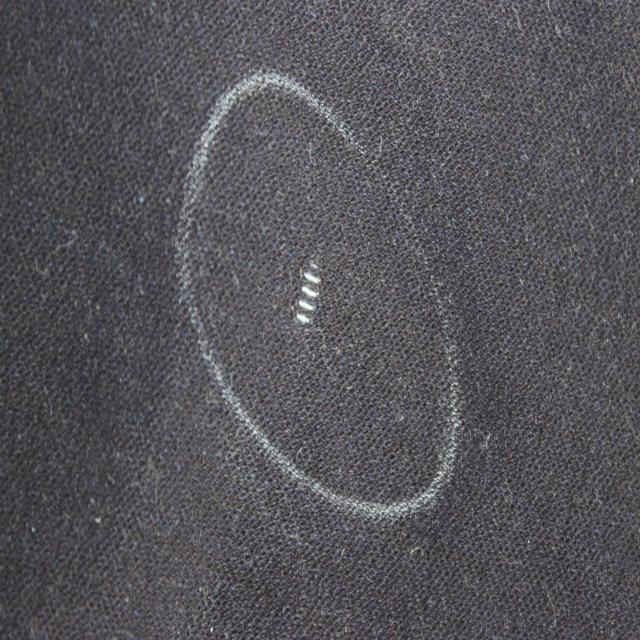pulled_or_thick_thread: (292, 260, 326, 330)
